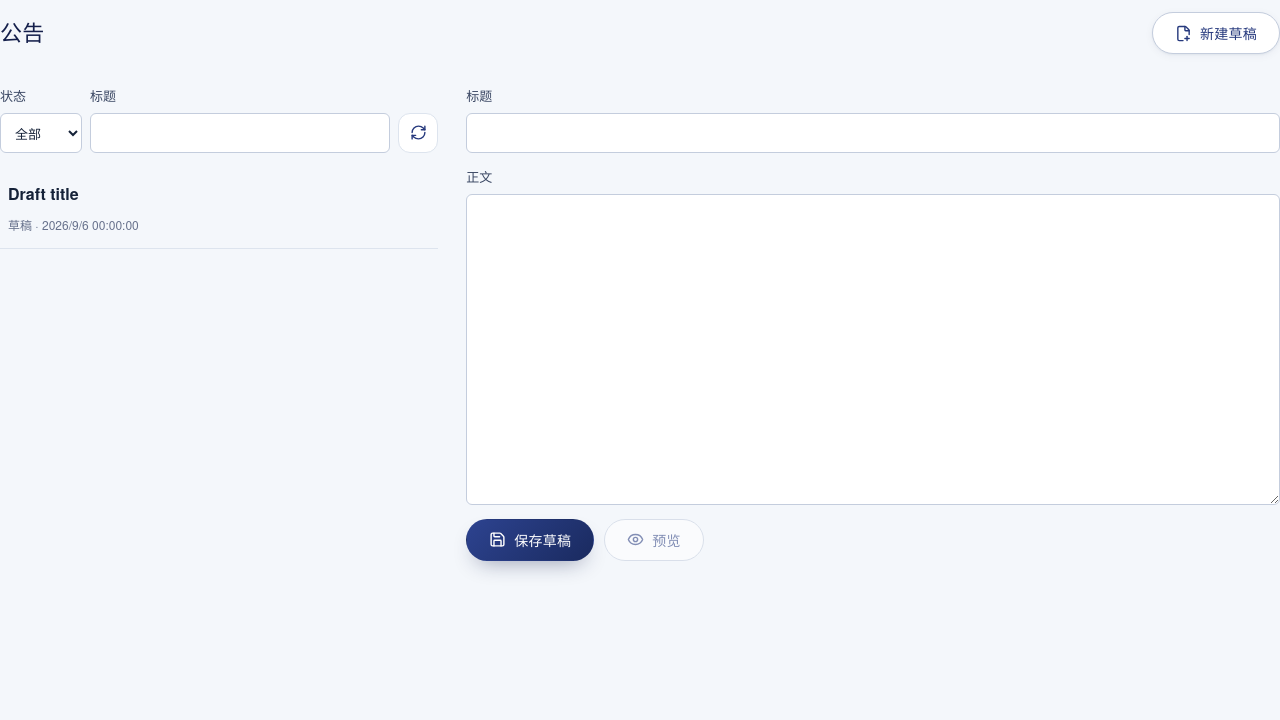
Test: administrator announcement integration › prevents publishing unsaved changes from the preview
Click the button "Draft title 草稿 · 2026/9/6 00:00:00": (43, 193) x1=0 y1=167 x2=438 y2=248
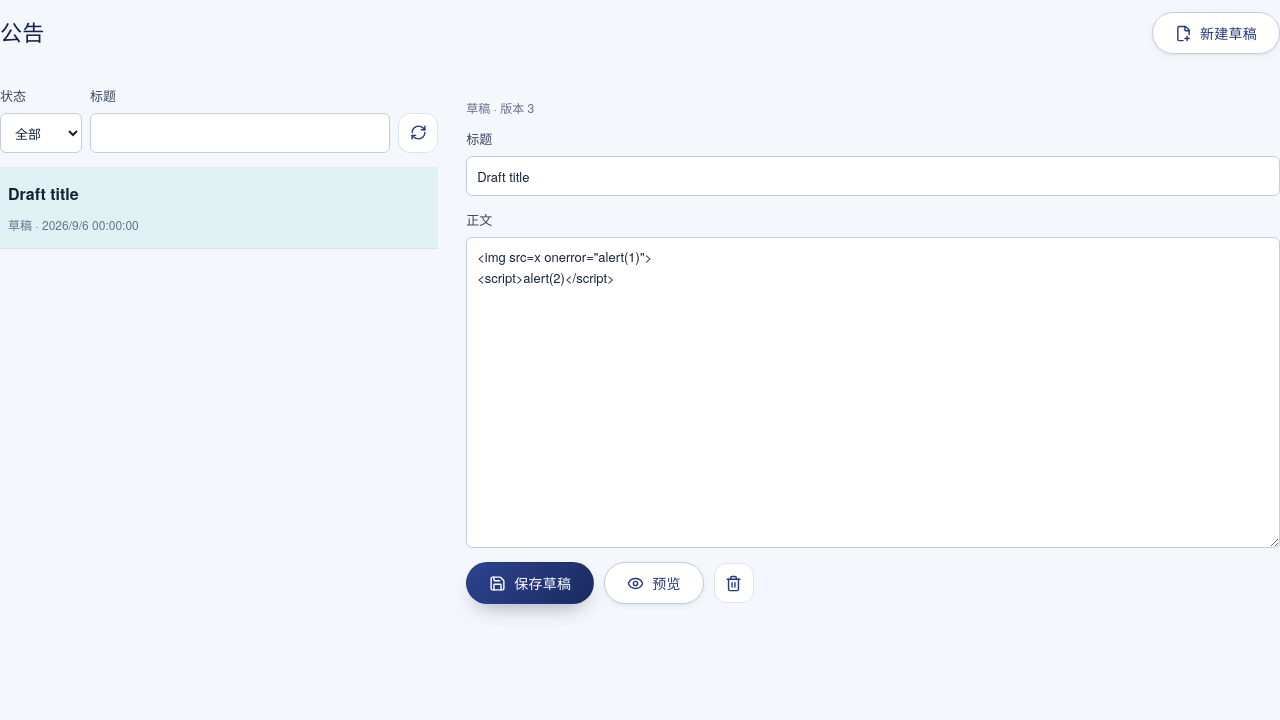
Replace the text in the text box with id "announcement-body" with "Local unsaved revision": (873, 393) x1=466 y1=237 x2=1279 y2=548
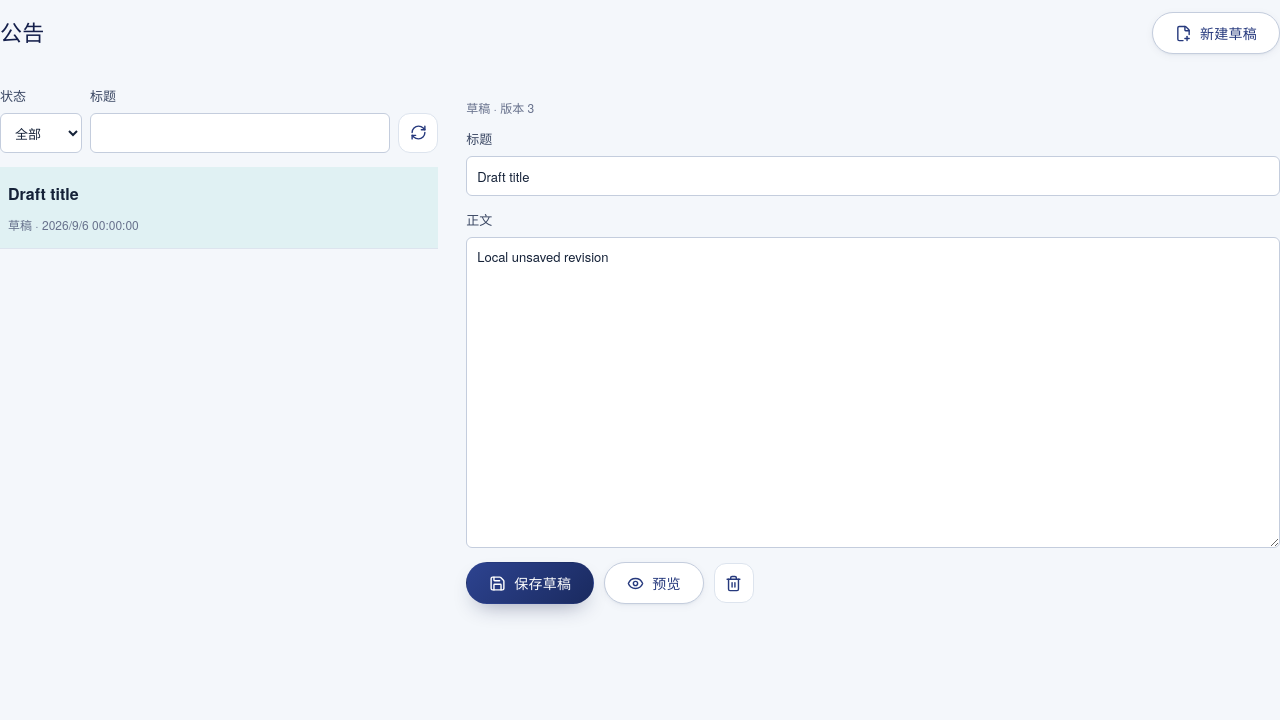
Click the button "预览": (654, 583) x1=604 y1=562 x2=704 y2=604
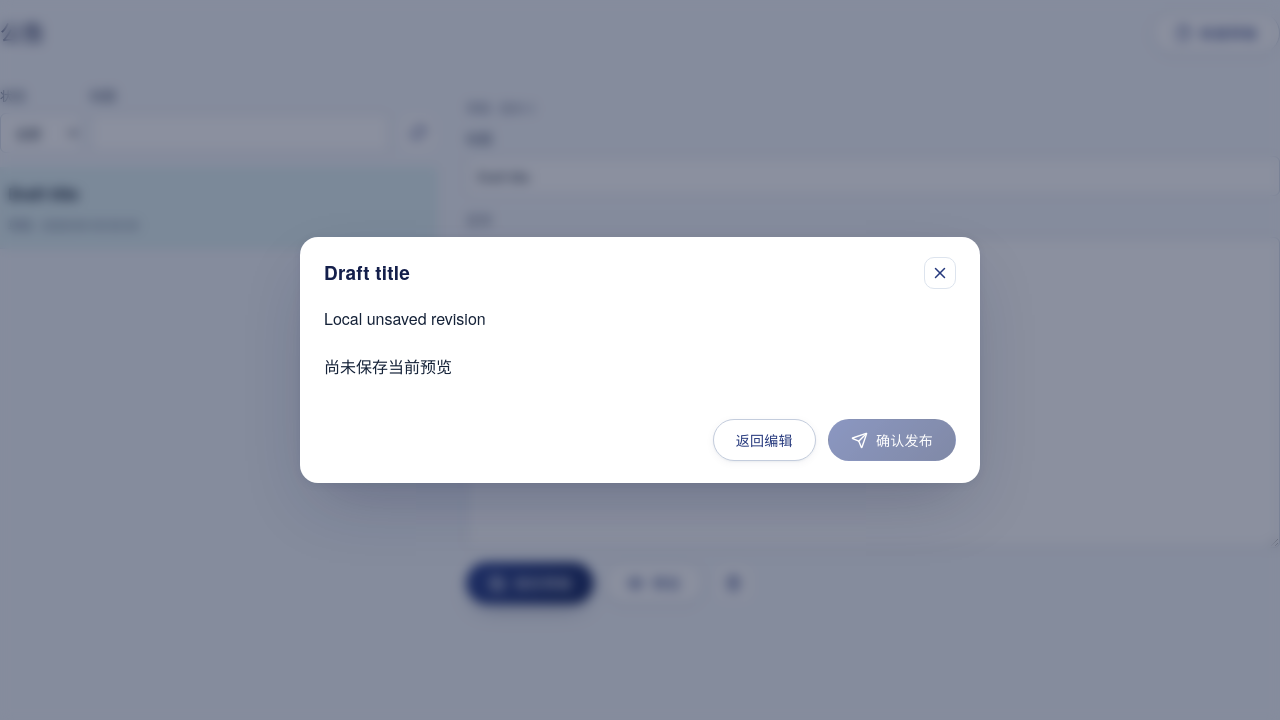
Expected: the button "确认发布" is disabled, x1=828 y1=419 x2=956 y2=461
Expected: the text "尚未保存当前预览" is shown, x1=324 y1=355 x2=452 y2=378
